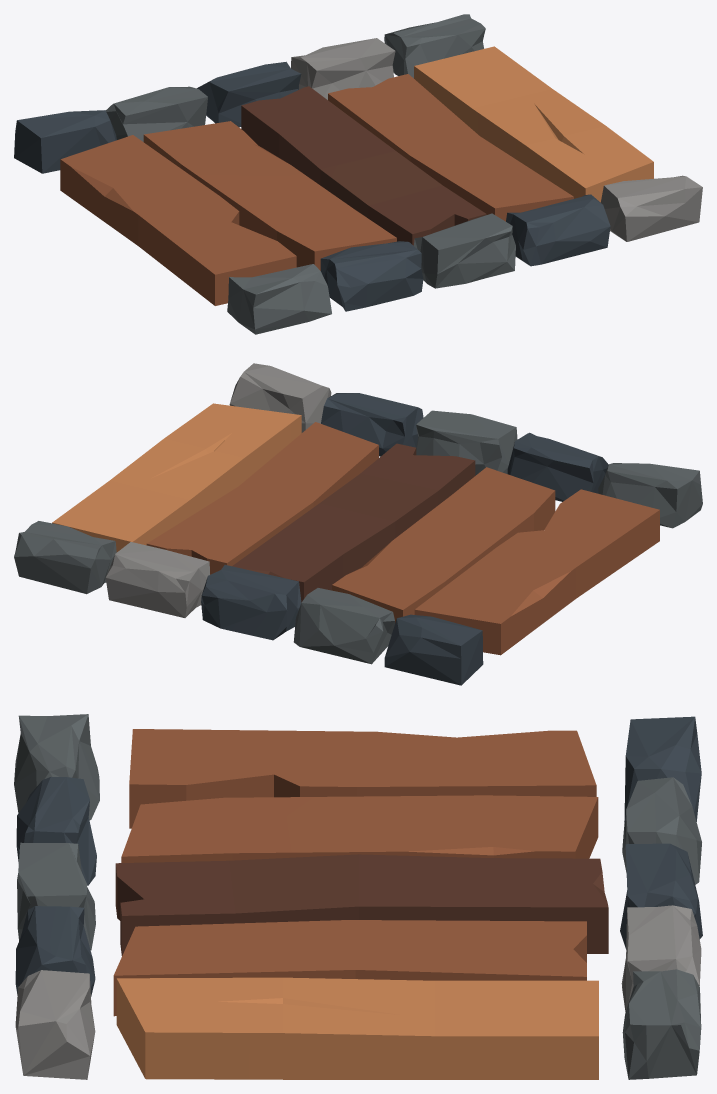
Rendered from wood-bridge.gltf.
3 views of the same model, one above another, from view 1: azimuth 30°, elevation 25°; view 2: azimuth 150°, elevation 25°; view 3: azimuth 270°, elevation 25° (orthographic). The views are drawn at different scales.
Visible parts, largest first — view 1: GroundTileModular.002; view 2: GroundTileModular.002; view 3: GroundTileModular.002.
Part boxes in pixels (box(x1,y1,x2,y2)): GroundTileModular.002: box(14, 14, 702, 334); GroundTileModular.002: box(14, 363, 702, 685); GroundTileModular.002: box(14, 714, 702, 1079).
Bounding box in the file's own units: 1.94 × 0.1752 × 1.81.
1 material, 1 textured.
